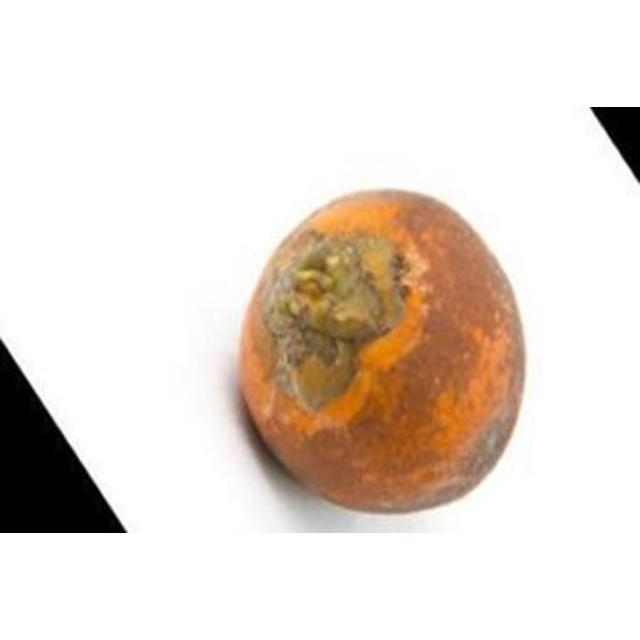good: (238, 191, 528, 517)
